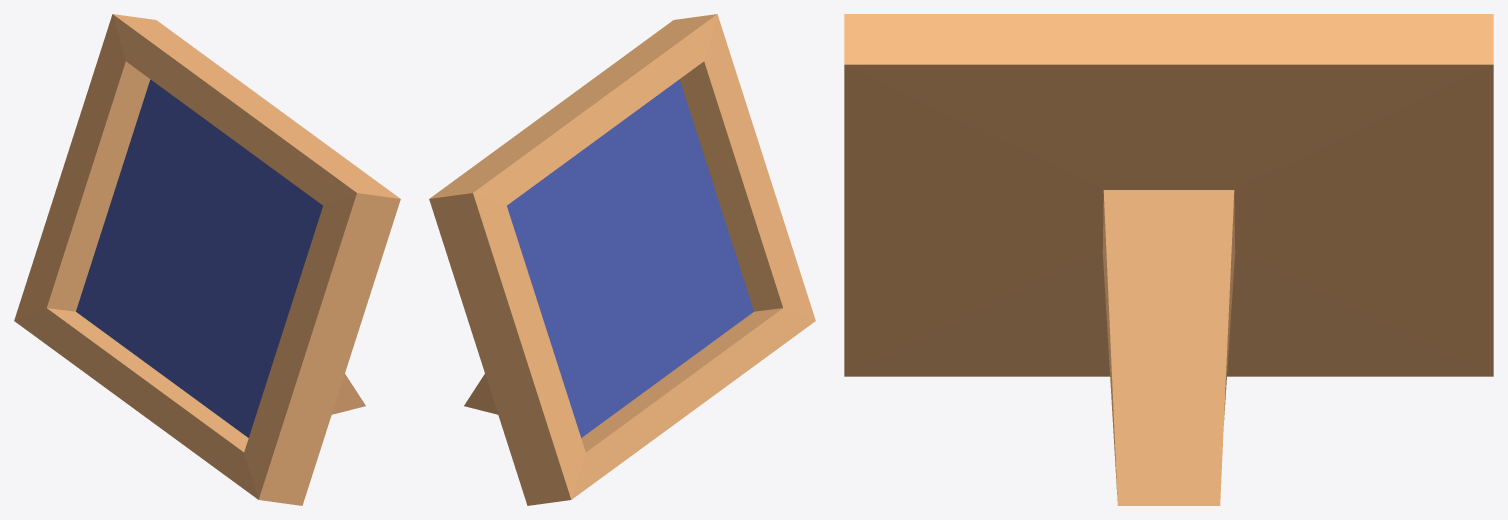
The model's file is Picture Frame_16.fbx.
The picture shows the model from 3 angles, left to right: view 1: azimuth 30°, elevation 25°; view 2: azimuth 150°, elevation 25°; view 3: azimuth 270°, elevation 25°; orthographic projection. The views are drawn at different scales.
Visible parts, largest first — view 1: Picture Frame_16; view 2: Picture Frame_16; view 3: Picture Frame_16.
Boxes of the visible parts, left/top/right/bottom form: Picture Frame_16: left=14, top=14, right=400, bottom=505; Picture Frame_16: left=429, top=14, right=815, bottom=505; Picture Frame_16: left=844, top=14, right=1493, bottom=505.
Bounding box in the file's own units: 0.1138 × 0.1634 × 0.229.
